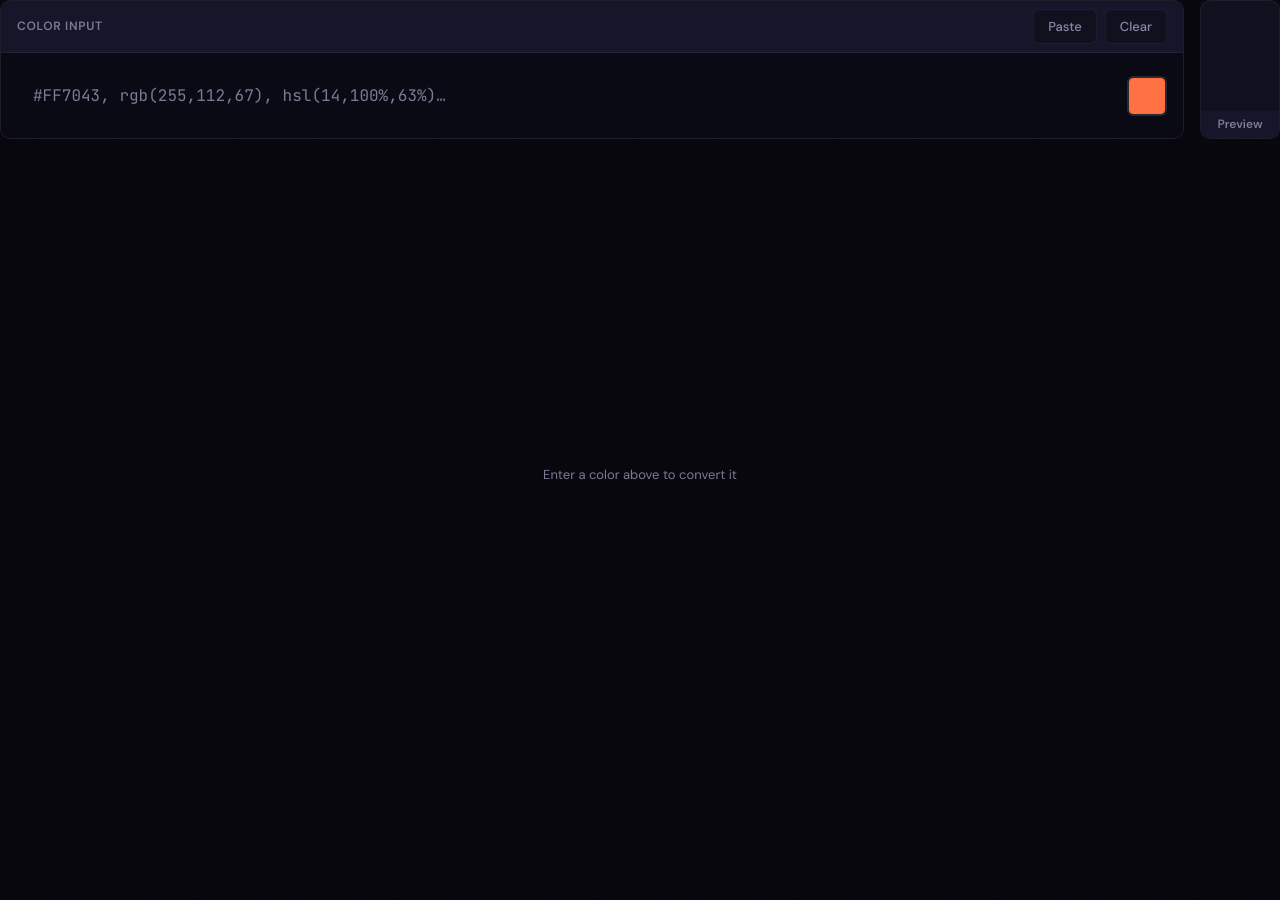
Test: ColorConverter › converts rgb string
The width and height of the screenshot is (1280, 900).
Type "rgb(0, 128, 255)" into the field named "color value input" at (564, 96), box x1=17 y1=69 x2=1111 y2=122
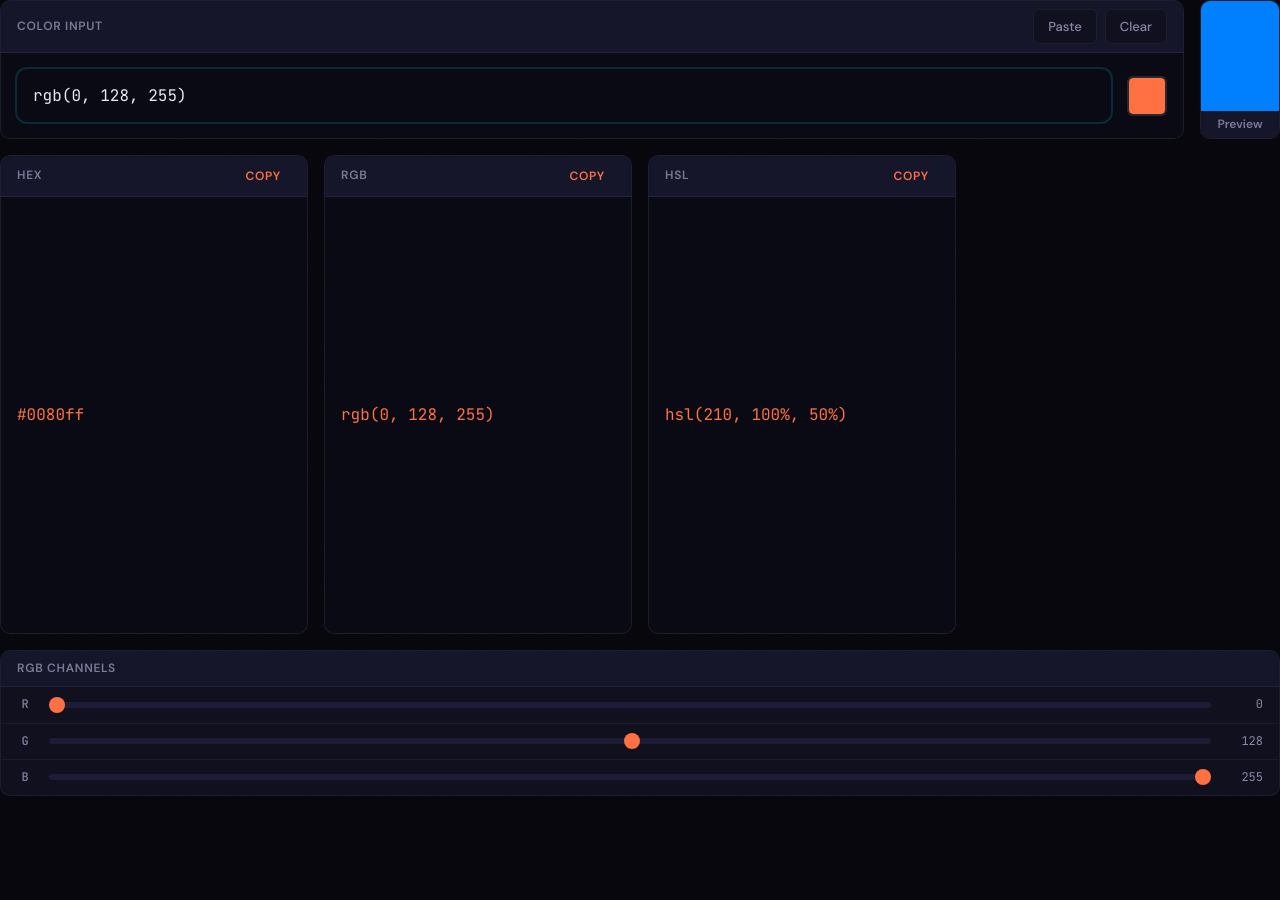
Result: the text "#0080ff" is shown at x1=1 y1=197 x2=307 y2=633
